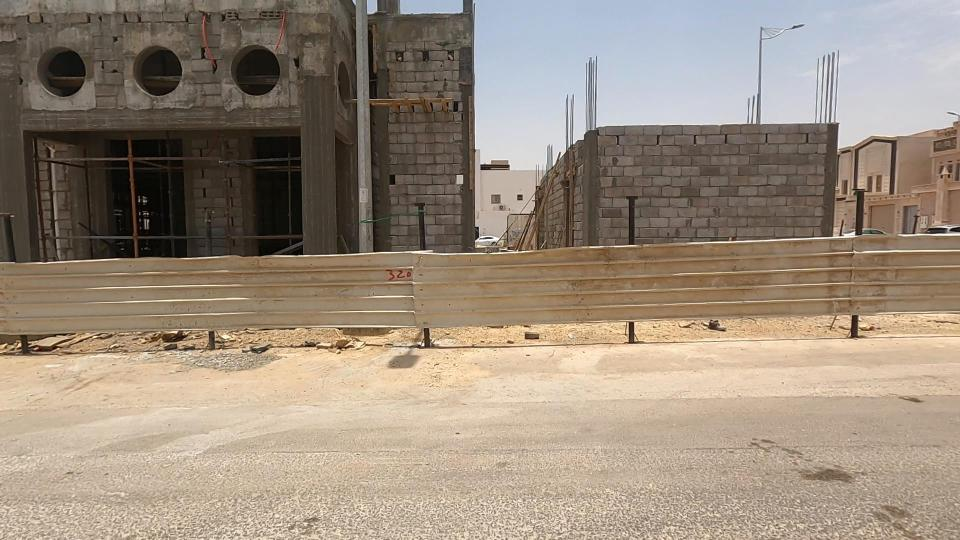GARBAGE: (624, 284, 779, 357), (115, 298, 248, 380), (0, 305, 141, 380), (474, 296, 595, 373)
